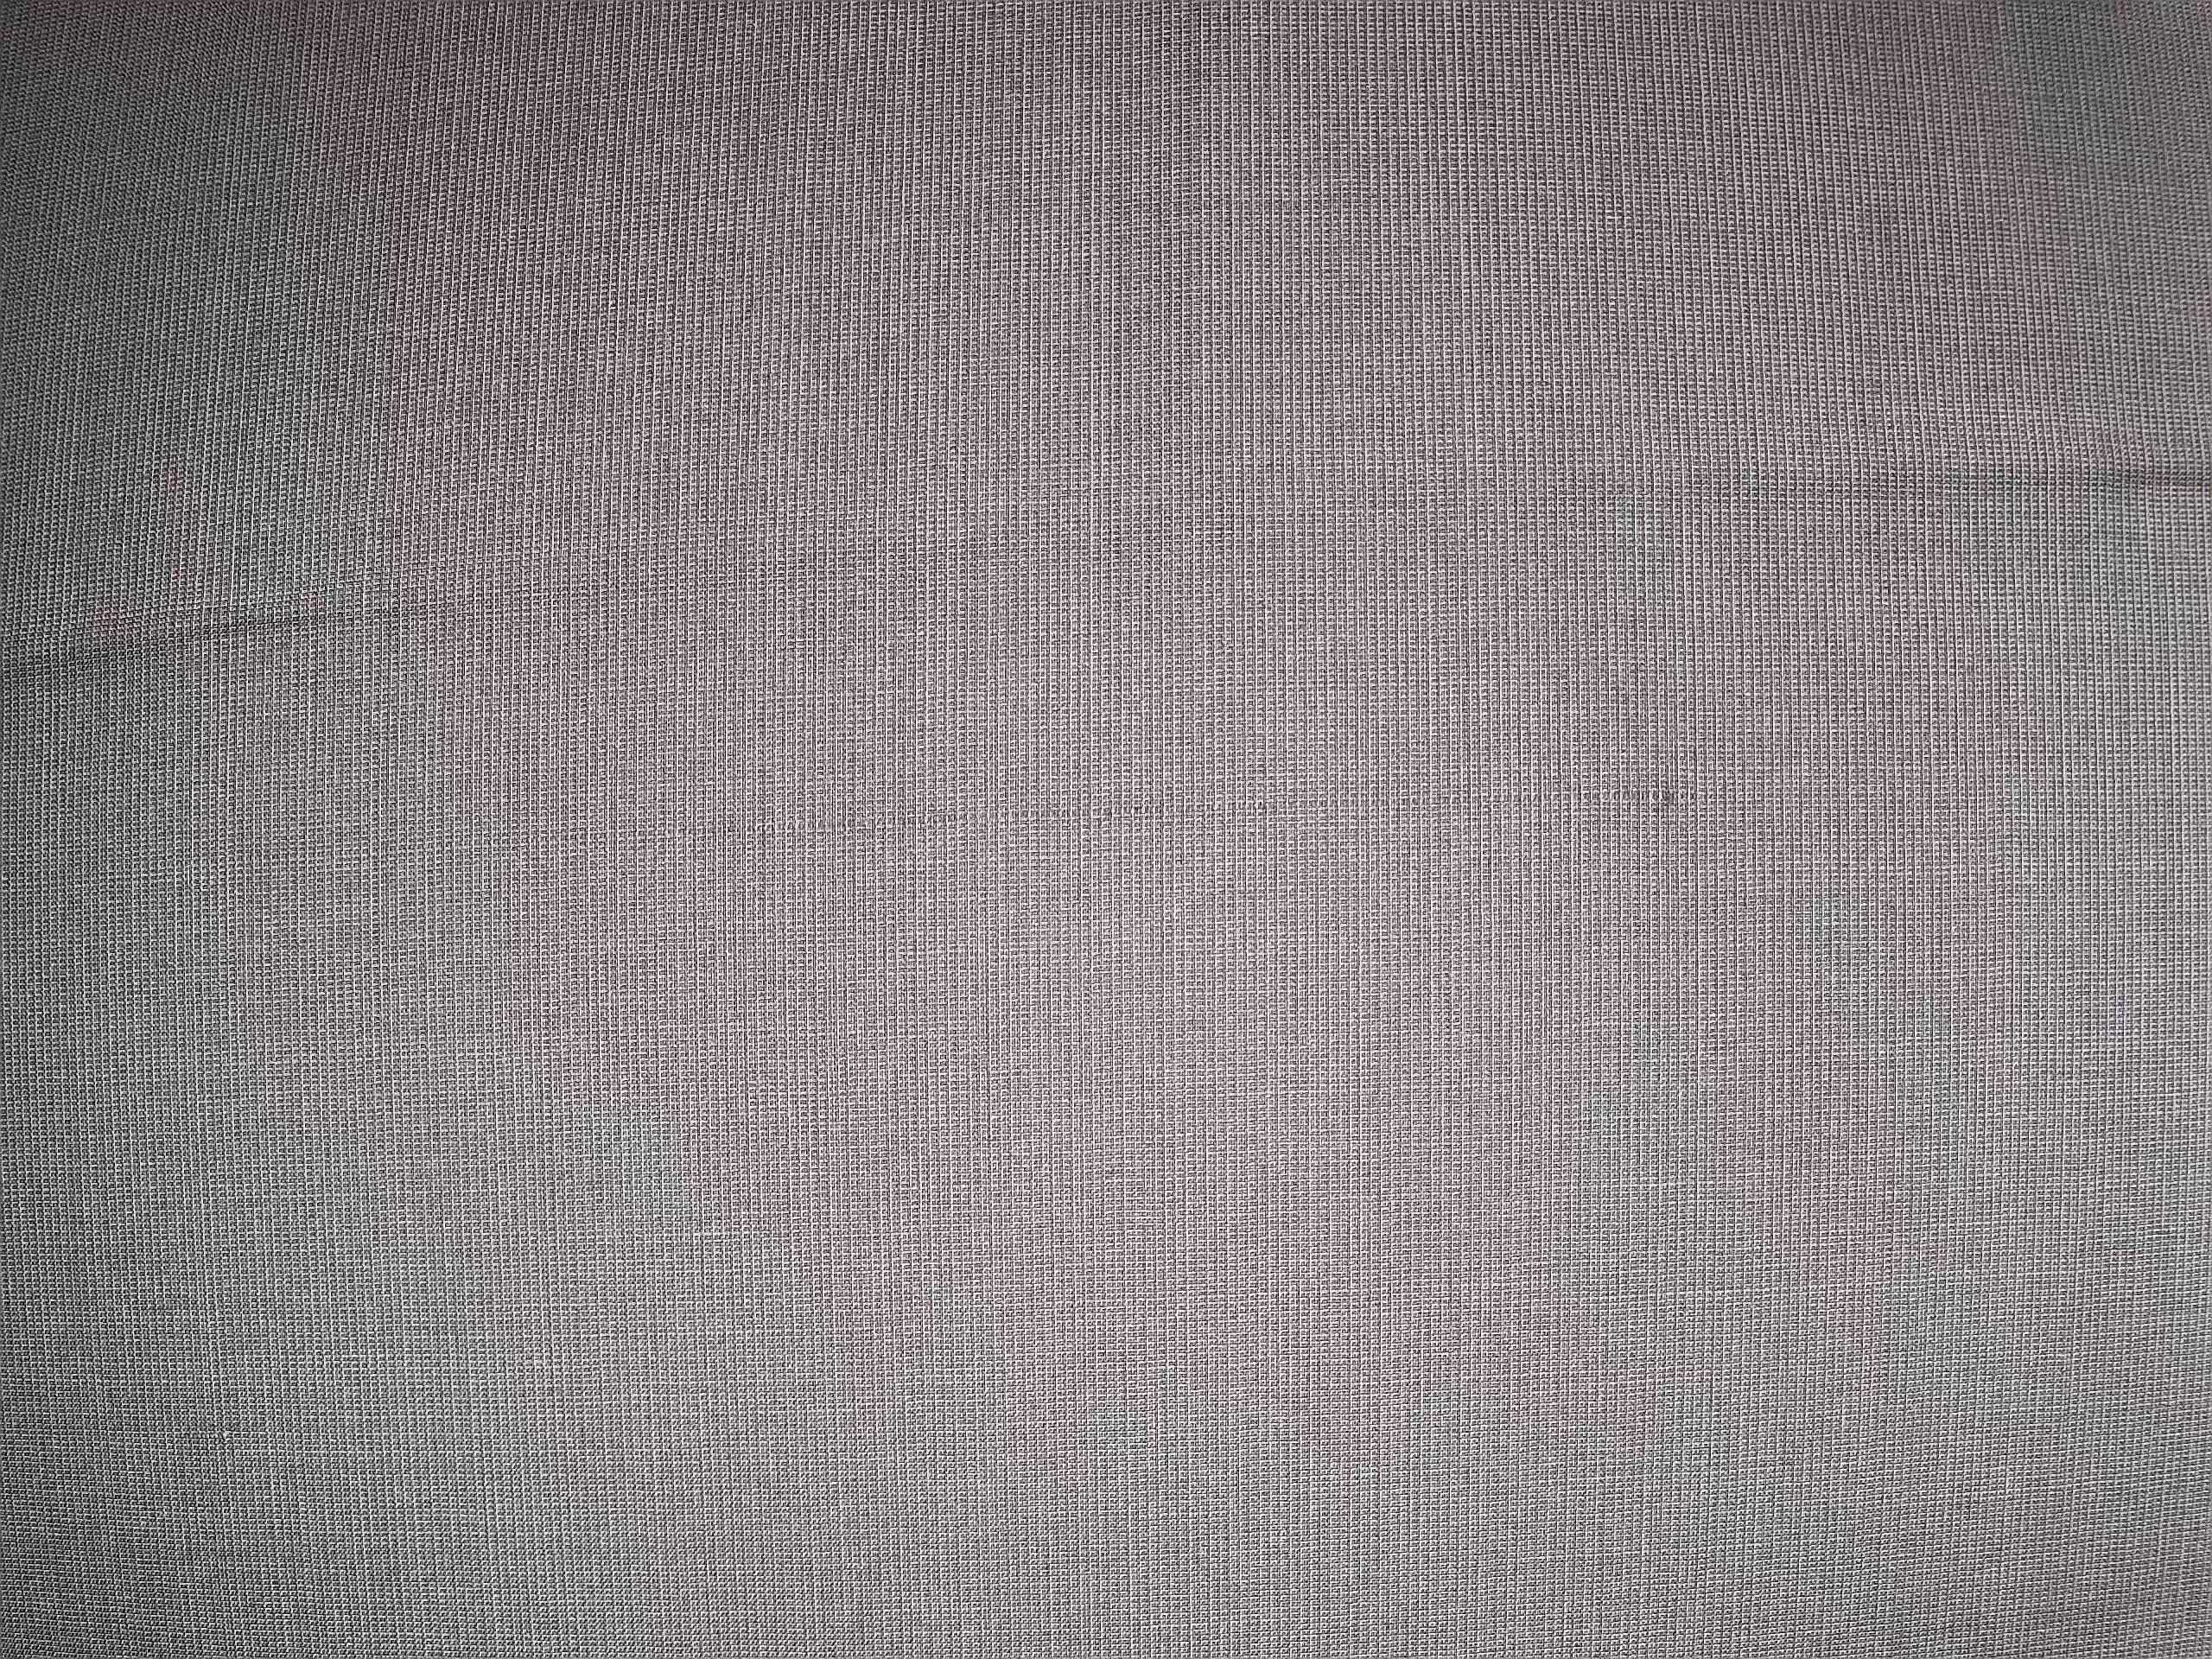thin-spinning: (219, 772, 1709, 877)
